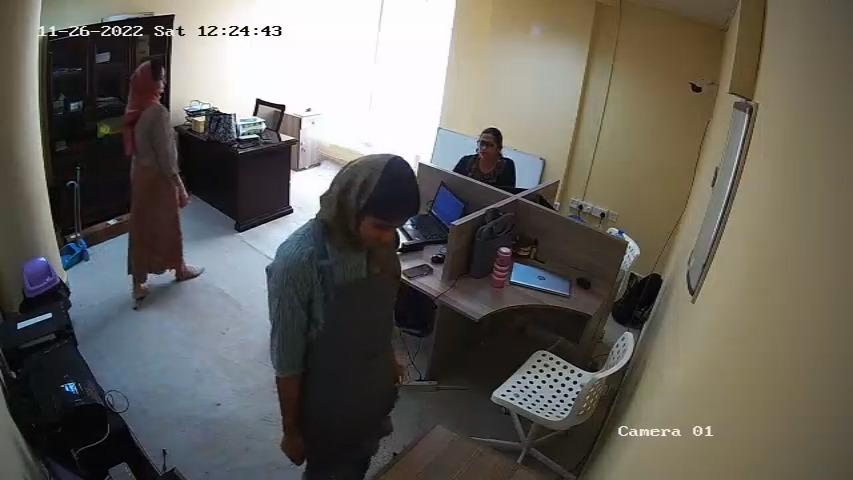apron: (299, 251, 401, 446)
